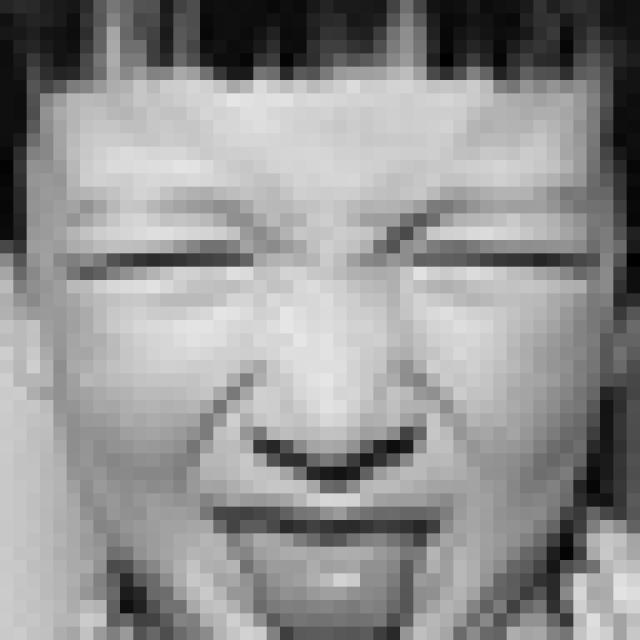disgust: (70, 178, 595, 640)
